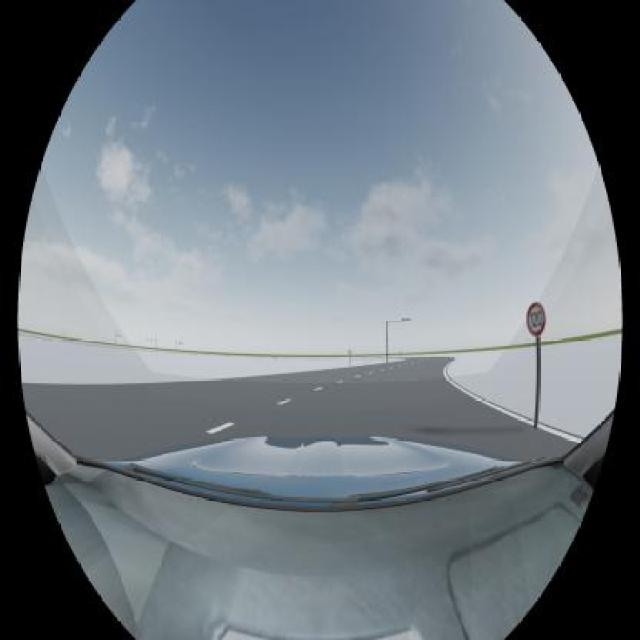forb_speed_over_120: (526, 302, 545, 335)
